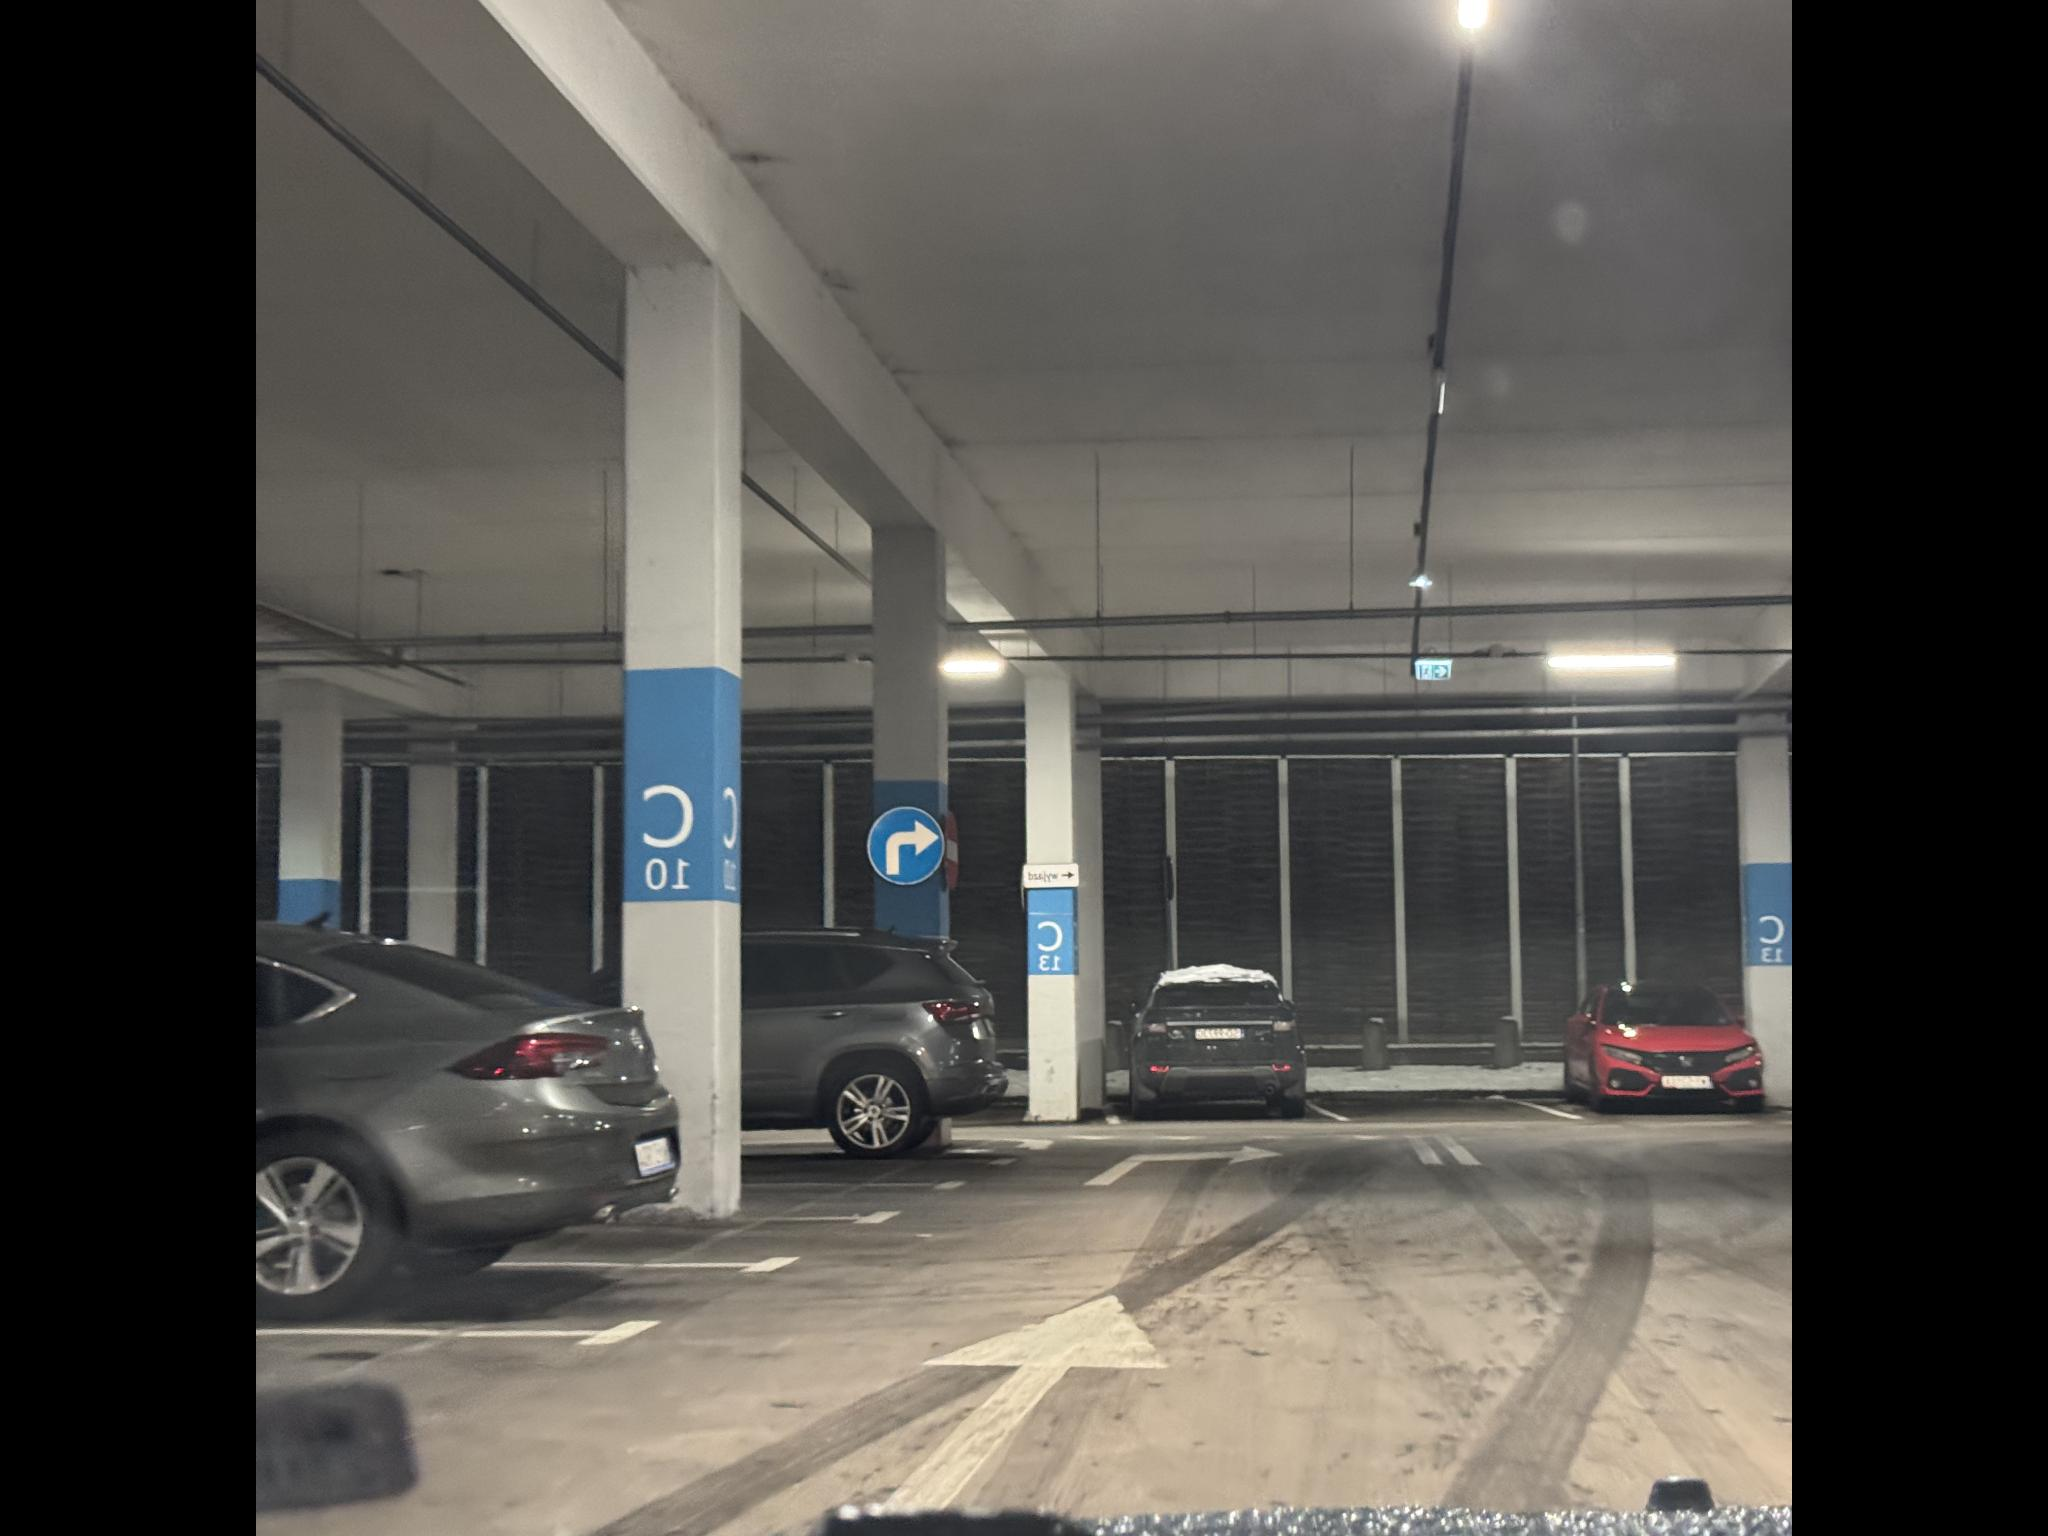mandatory: (1316, 592, 1398, 671)
prohibitory: (1322, 576, 1401, 594)
